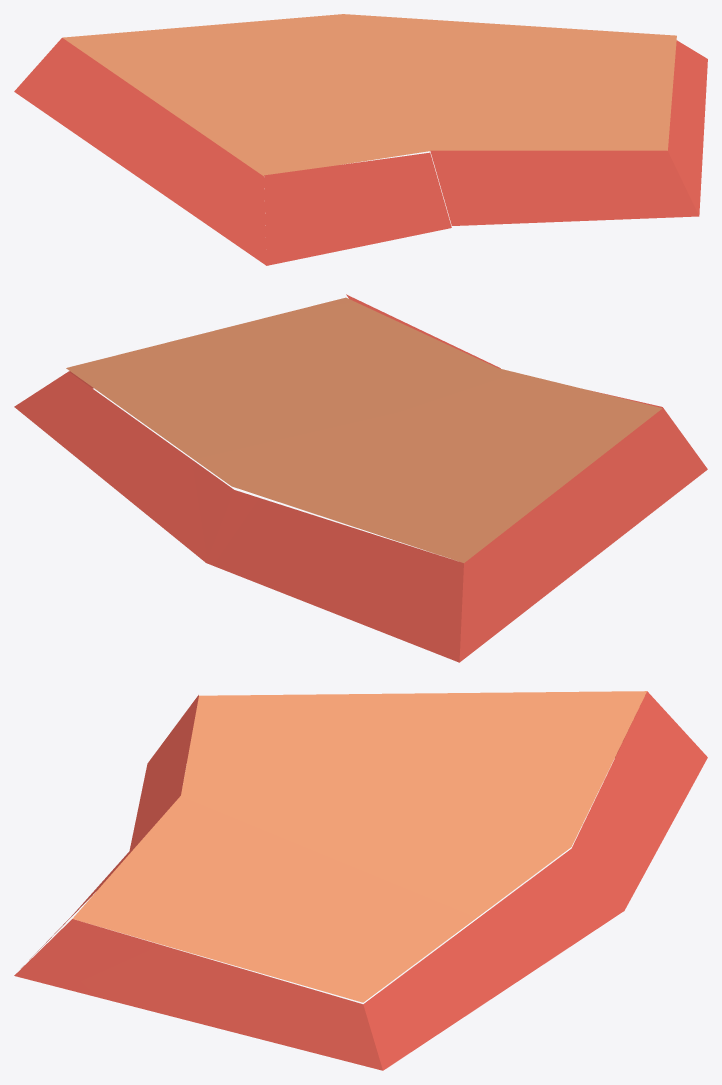
Rendered from desert_rock2.glb.
3 renders of one model, top to bottom at view 1: azimuth 30°, elevation 25°; view 2: azimuth 150°, elevation 25°; view 3: azimuth 270°, elevation 25°, orthographic. The views are drawn at different scales.
Parts seen in each view (by area): view 1: Cube.001; view 2: Cube.001; view 3: Cube.001.
Part boxes in pixels (bbox=[...]): Cube.001: bbox=[14, 14, 707, 265]; Cube.001: bbox=[14, 294, 707, 662]; Cube.001: bbox=[14, 691, 707, 1070].
Size of the model in its own units: 1.19 by 0.1421 by 1.11.
1 material, 1 textured.
